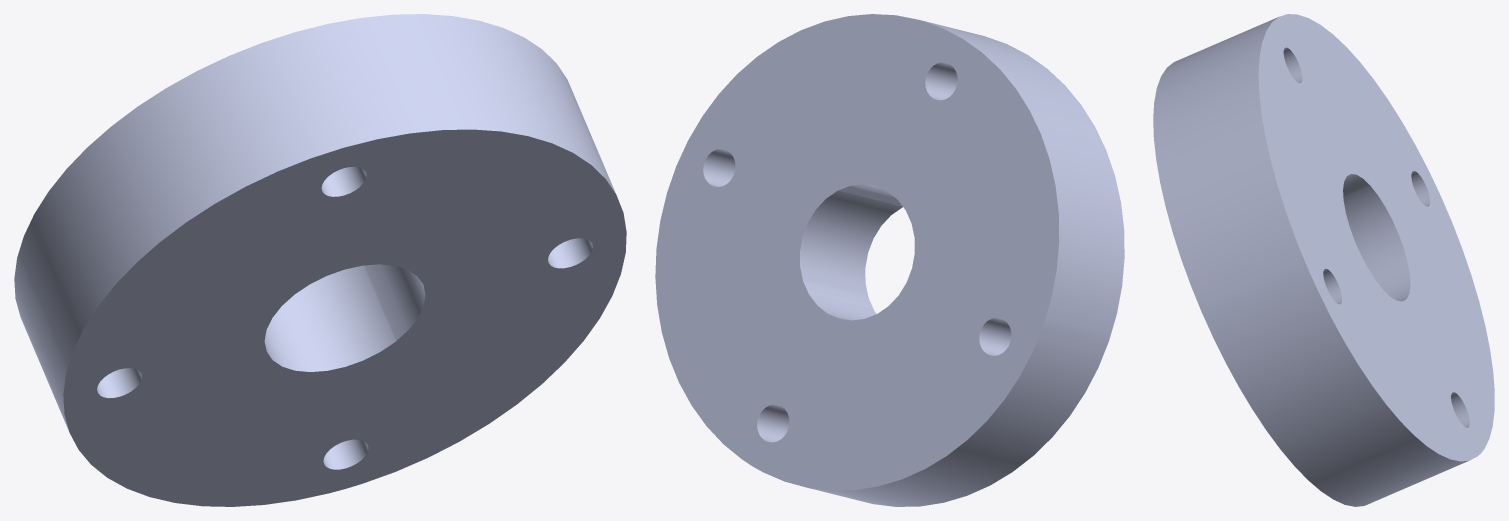
Rendered from c_3_robot_export_clean__rx28_disc_1_3.dae.
The picture shows the model from 3 angles, left to right: view 1: azimuth 30°, elevation 25°; view 2: azimuth 150°, elevation 25°; view 3: azimuth 270°, elevation 25°; orthographic projection. The views are drawn at different scales.
Parts seen in each view (by area): view 1: node0; view 2: node0; view 3: node0.
Part boxes in pixels (x1,y1,x2,y2): node0: (14,14,626,506); node0: (655,14,1124,506); node0: (1153,14,1494,506).
Size of the model in its own units: 0.0205 by 0.02 by 0.0141.
